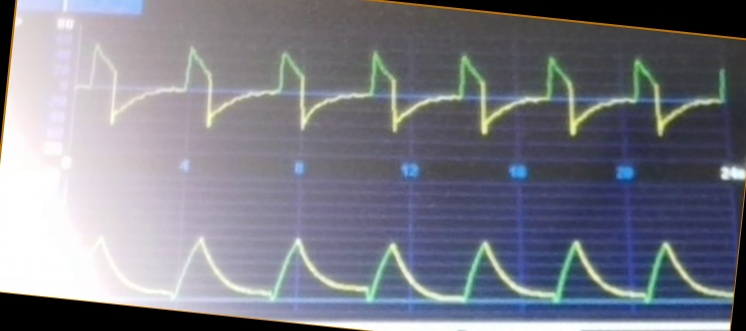Flow: (78, 43, 725, 148)
Leakage Volume: (88, 231, 727, 309)
